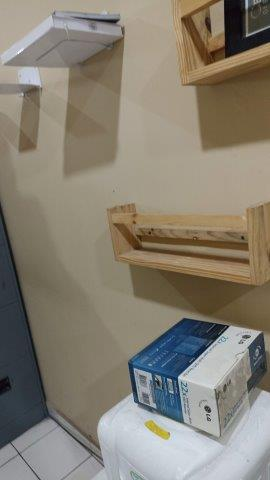kardus: (128, 319, 268, 436)
kertas: (2, 11, 122, 65)
